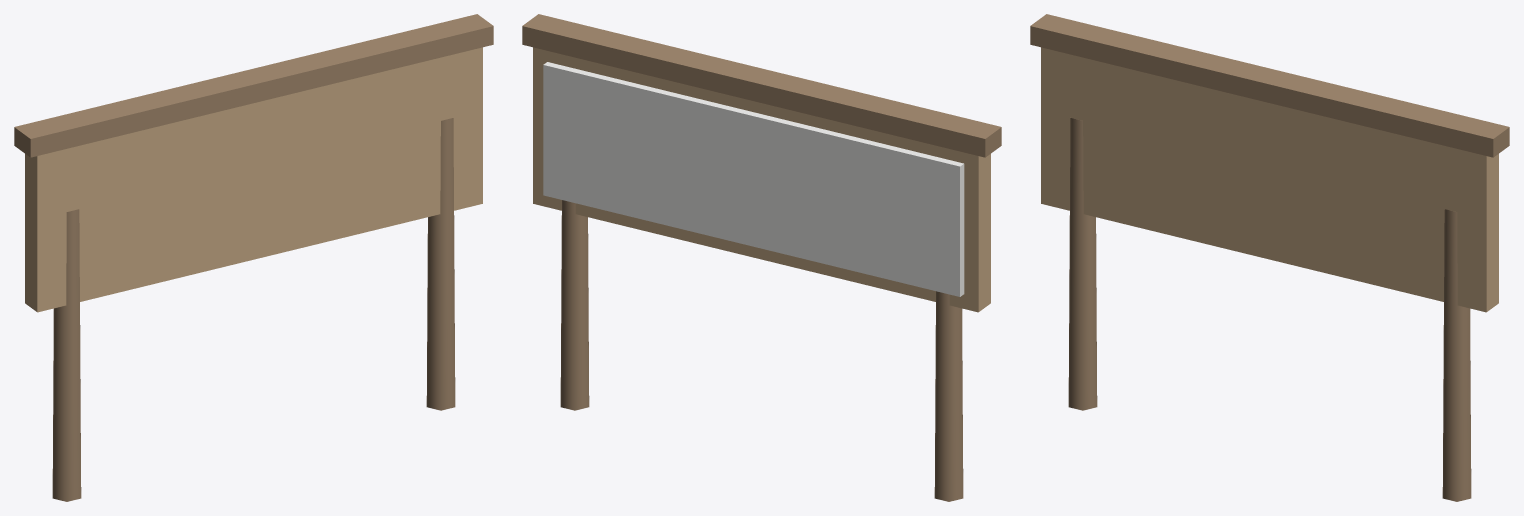
Rendered from sign.glb.
3 renders of one model, left to right at view 1: azimuth 30°, elevation 25°; view 2: azimuth 150°, elevation 25°; view 3: azimuth 330°, elevation 25°, orthographic.
Visible parts, largest first — view 1: sign; view 2: sign; view 3: sign.
Part boxes in pixels (x1,y1,x2,y2): sign: (14, 14, 493, 501); sign: (522, 14, 1001, 501); sign: (1030, 14, 1509, 501).
Bounding box in the file's own units: 2.6 × 2 × 0.18.
